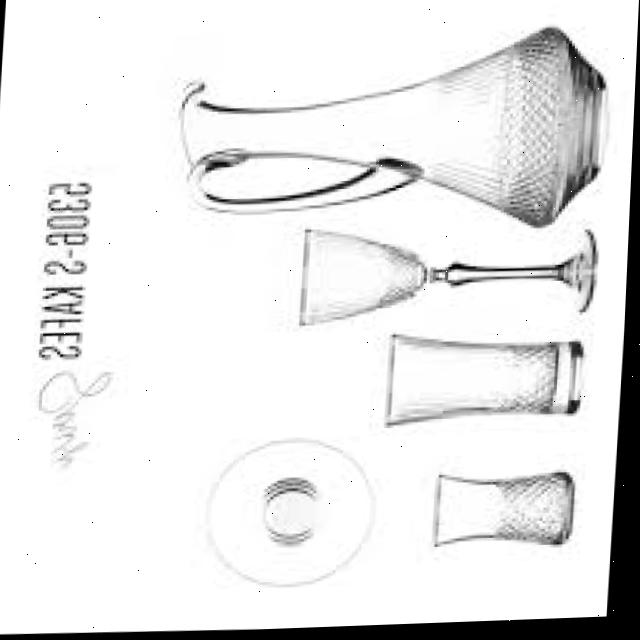Dry: (169, 20, 611, 245), (299, 214, 596, 335), (381, 326, 589, 434), (436, 463, 581, 558)
